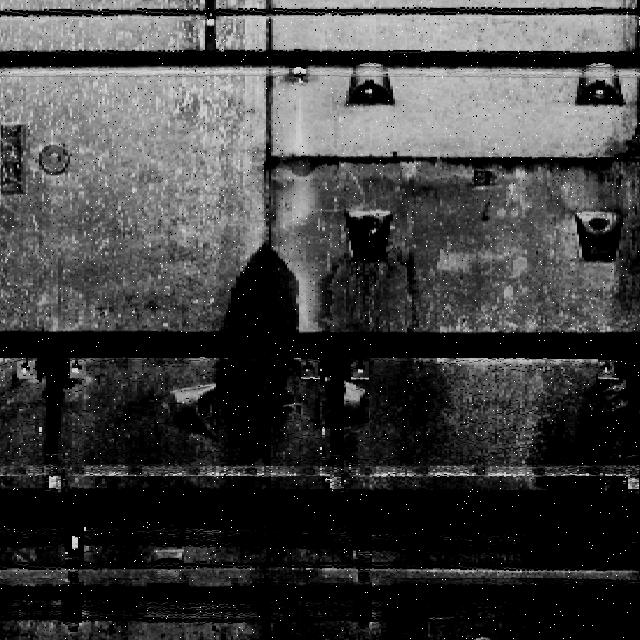leakage: (515, 352, 640, 629), (214, 242, 304, 456)
